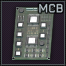Military circuit board: (0, 0, 66, 66)
